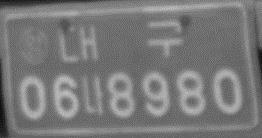0: (213, 68, 244, 115), (19, 74, 48, 120)
6: (51, 73, 80, 119)
8: (176, 70, 208, 116), (107, 72, 136, 119)
9: (141, 71, 171, 117)
나: (80, 74, 107, 118)
대구_D: (57, 17, 185, 64)
영: (18, 26, 50, 64)
